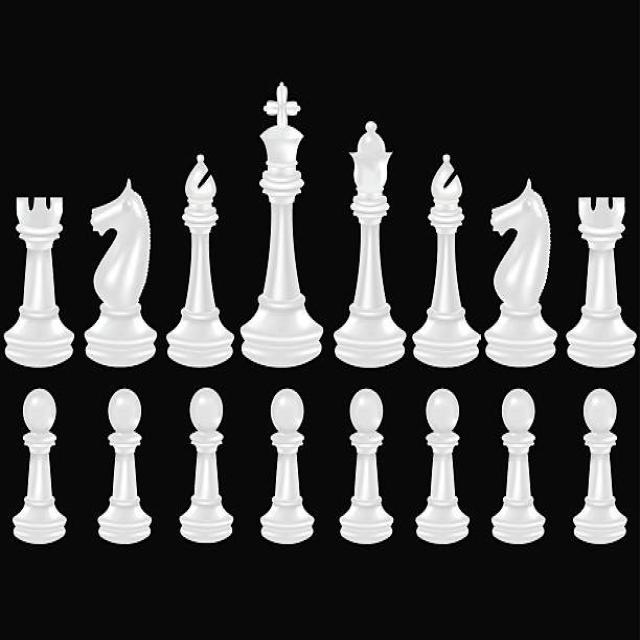white-bishop: (412, 154, 480, 368), (166, 154, 234, 368)
white-king: (240, 81, 324, 368)
white-knight: (484, 178, 558, 368), (84, 178, 157, 367)
white-pawn: (573, 388, 628, 545), (491, 388, 546, 545), (339, 388, 394, 545), (12, 388, 67, 545), (415, 388, 470, 544), (260, 388, 315, 544), (179, 388, 234, 544), (97, 388, 152, 544)
white-queen: (334, 121, 406, 367)
white-rook: (566, 197, 637, 369), (4, 197, 74, 368)
